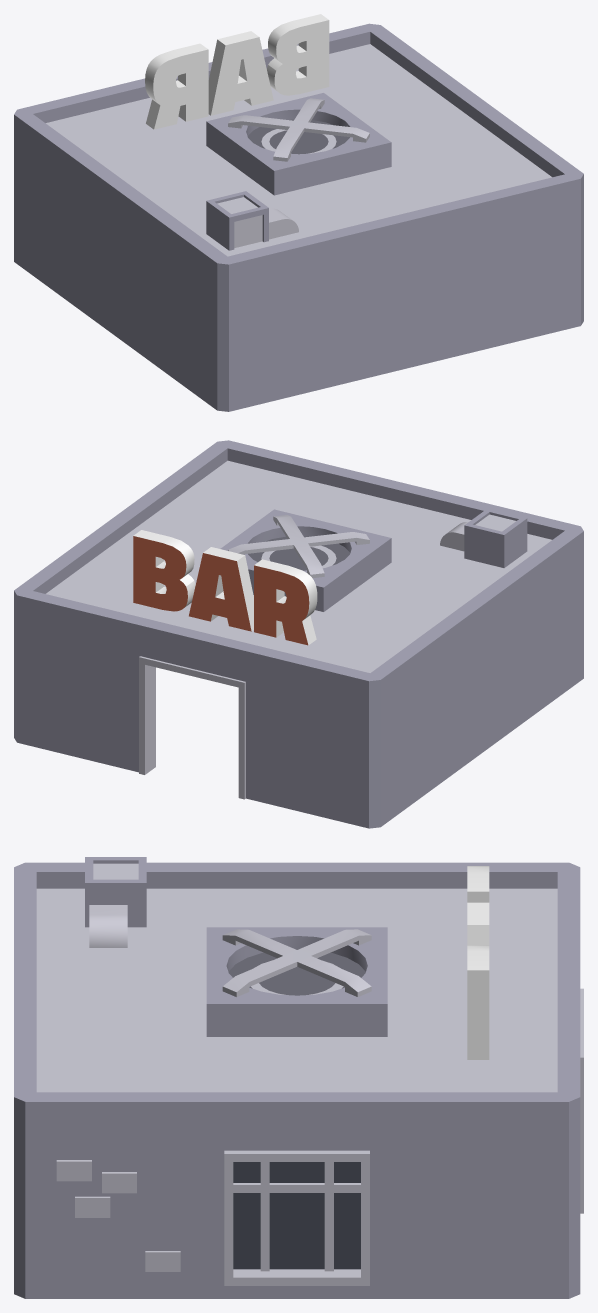
The model's file is bar_1.fbx.
The picture shows the model from 3 angles, top to bottom: view 1: azimuth 30°, elevation 25°; view 2: azimuth 150°, elevation 25°; view 3: azimuth 270°, elevation 25°; orthographic projection. The views are drawn at different scales.
Visible parts, largest first — view 1: wall_straight_47, wall_straight_48, wall_straight_49, sign_textBar_66, detail_airHuge_67, roof_corner_58, roof_corner_60, roof_side_53, wall_straight_37, roof_side_55, roof_corner_59, roof_side_57 (+5 smaller); view 2: wall_straight_44, wall_straight_63, sign_textBar_66, roof_corner_60, roof_corner_58, roof_side_55, wall_straight_35, roof_corner_61, detail_airHuge_67, wall_straight_36, wall_straight_37, roof_corner_59 (+5 smaller); view 3: wall_straight_62, wall_windowLarge_64, wall_straight_32, roof_corner_58, detail_airHuge_67, roof_corner_61, roof_side_57, roof_corner_60, roof_side_53, roof_side_56, roof_side_55, roof_corner_59 (+4 smaller).
Part boxes in pixels (left/top/right/bottom): wall_straight_47: left=463, top=203, right=580, bottom=354; wall_straight_48: left=346, top=232, right=463, bottom=383; wall_straight_49: left=229, top=260, right=346, bottom=411; sign_textBar_66: left=145, top=14, right=329, bottom=129; detail_airHuge_67: left=206, top=93, right=391, bottom=195; roof_corner_58: left=385, top=123, right=583, bottom=231; roof_corner_60: left=14, top=81, right=209, bottom=188; roof_side_53: left=267, top=164, right=466, bottom=260; wall_straight_37: left=149, top=239, right=228, bottom=411; roof_side_55: left=81, top=144, right=280, bottom=237; roof_corner_59: left=149, top=193, right=346, bottom=288; roof_side_57: left=345, top=73, right=515, bottom=169; wall_straight_44: left=251, top=677, right=368, bottom=828; wall_straight_63: left=17, top=620, right=134, bottom=770; sign_textBar_66: left=133, top=530, right=317, bottom=645; roof_corner_60: left=250, top=611, right=448, bottom=705; roof_corner_58: left=150, top=440, right=348, bottom=530; roof_side_55: left=317, top=560, right=516, bottom=654; wall_straight_35: left=369, top=655, right=448, bottom=828; roof_corner_61: left=14, top=540, right=196, bottom=648; detail_airHuge_67: left=220, top=509, right=391, bottom=611; wall_straight_36: left=448, top=605, right=516, bottom=777; wall_straight_37: left=516, top=556, right=583, bottom=727; roof_corner_59: left=388, top=497, right=583, bottom=604; wall_straight_62: left=387, top=1130, right=580, bottom=1298; wall_windowLarge_64: left=206, top=1134, right=387, bottom=1298; wall_straight_32: left=14, top=1130, right=206, bottom=1298; roof_corner_58: left=14, top=1016, right=217, bottom=1134; detail_airHuge_67: left=206, top=927, right=387, bottom=1036; roof_corner_61: left=376, top=1017, right=580, bottom=1134; roof_side_57: left=195, top=1032, right=397, bottom=1134; roof_corner_60: left=376, top=862, right=580, bottom=964; roof_side_53: left=14, top=939, right=216, bottom=1041; roof_side_56: left=379, top=939, right=580, bottom=1040; roof_side_55: left=195, top=862, right=398, bottom=955; roof_corner_59: left=14, top=862, right=217, bottom=964.
Bounding box in the file's own units: 31.65 × 16.45 × 31.45.
